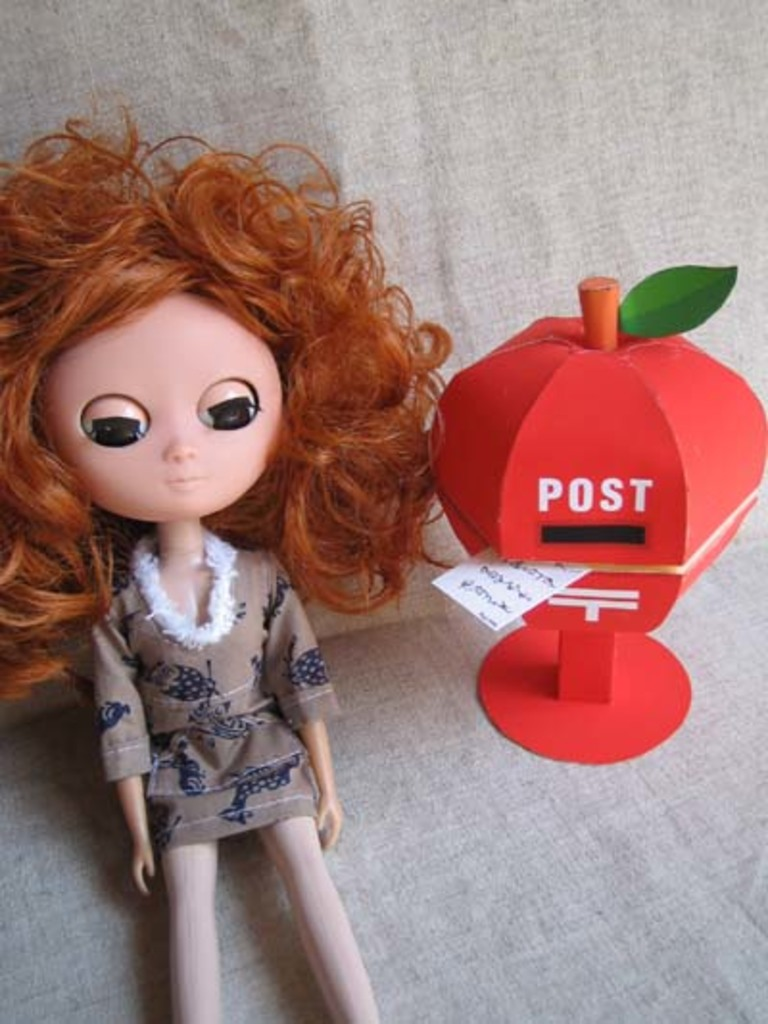Apple: (428, 253, 766, 762)
